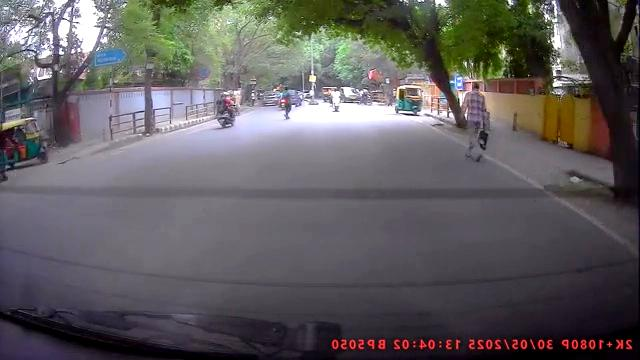motorcycle_with_helmet: (216, 90, 237, 129)
